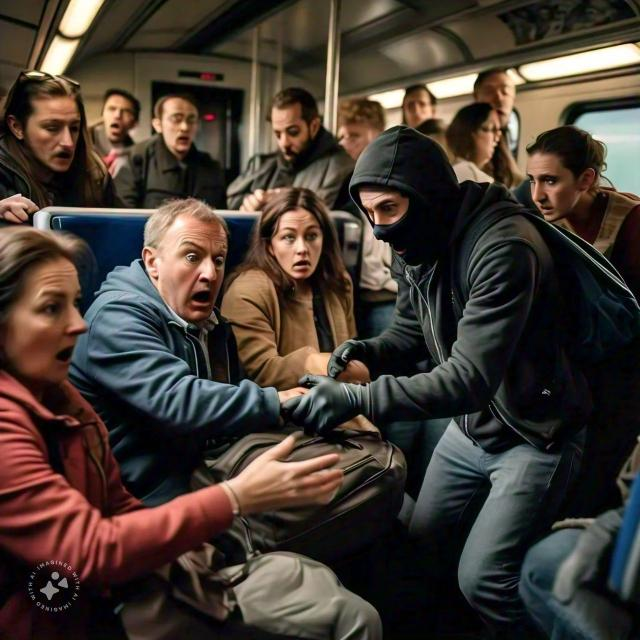Theft_Snatching: (38, 105, 608, 573)
